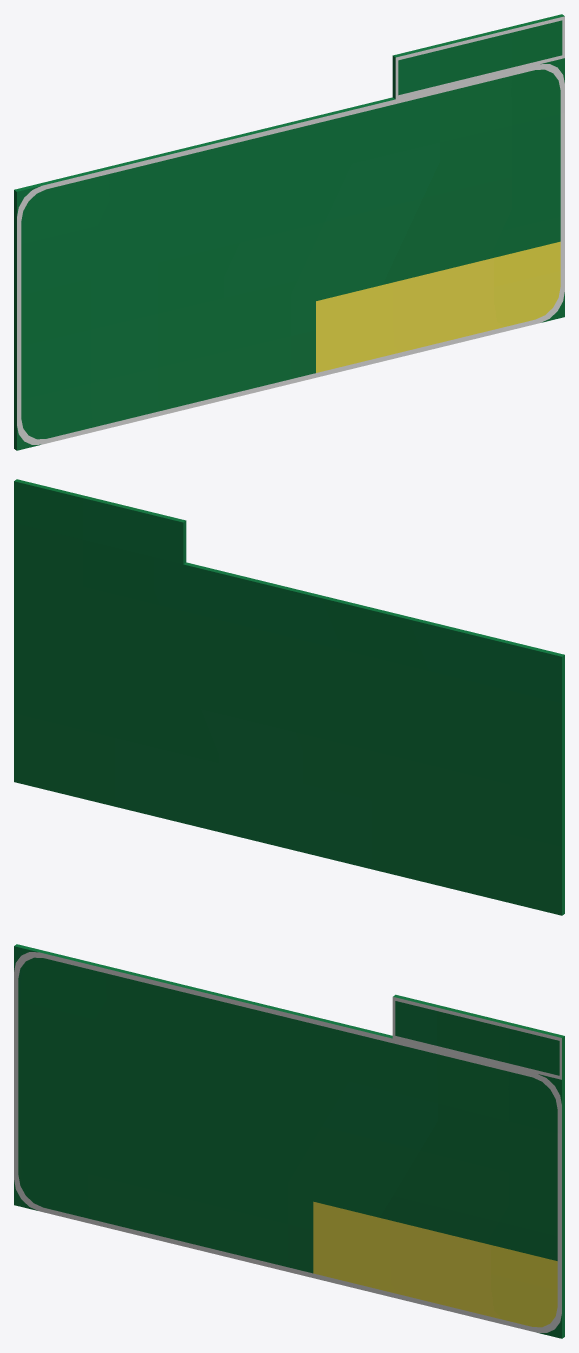
Rendered from Highway_Segment_Sign_Billboard00.fbx.
The picture shows the model from 3 angles, top to bottom: view 1: azimuth 30°, elevation 25°; view 2: azimuth 150°, elevation 25°; view 3: azimuth 330°, elevation 25°; orthographic projection.
Parts seen in each view (by area): view 1: SM_City_Highway_Sign_Billboard_01a.mo; view 2: SM_City_Highway_Sign_Billboard_01a.mo; view 3: SM_City_Highway_Sign_Billboard_01a.mo.
Part boxes in pixels (<box>): SM_City_Highway_Sign_Billboard_01a.mo: <box>14,14,564,450</box>; SM_City_Highway_Sign_Billboard_01a.mo: <box>14,479,564,915</box>; SM_City_Highway_Sign_Billboard_01a.mo: <box>14,944,564,1338</box>.
Size of the model in its own units: 384 by 201 by 3.46.
